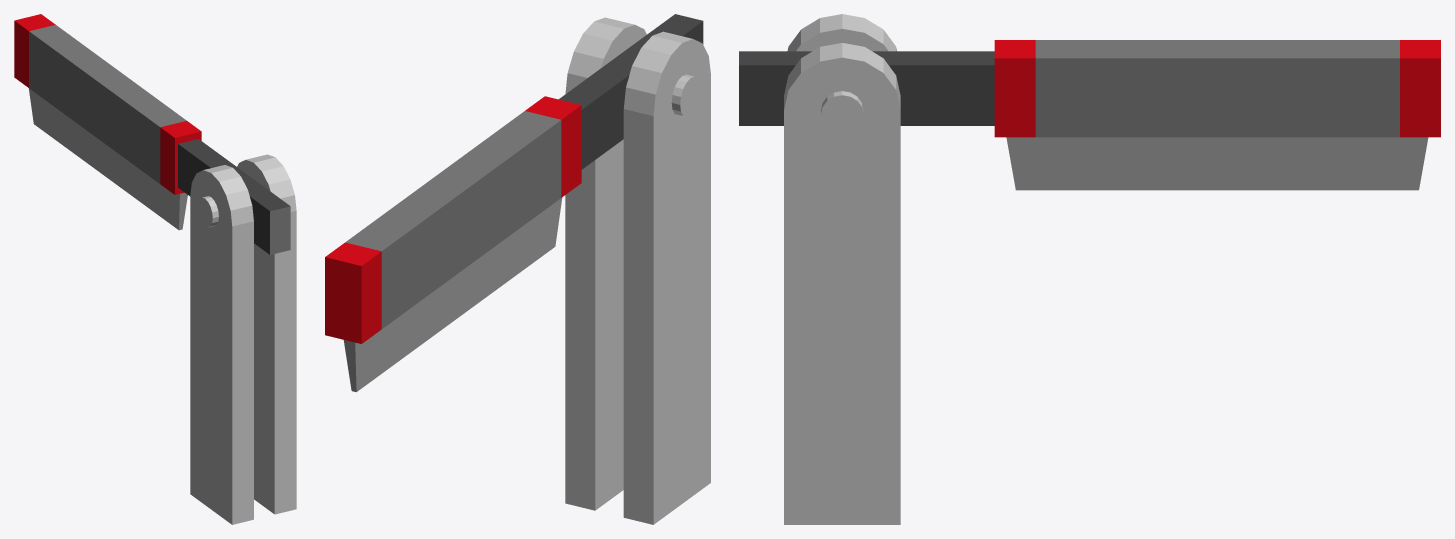
Rendered from KnifeModel.fbx.
3 renders of one model, left to right at view 1: azimuth 30°, elevation 25°; view 2: azimuth 150°, elevation 25°; view 3: azimuth 270°, elevation 25°, orthographic. The views are drawn at different scales.
Visible parts, largest first — view 1: Holderfront, Handle, Razer; view 2: Holderfront, Handle, Razer; view 3: Holderfront, Handle, Razer.
Boxes of the visible parts, x1,y1,x2,y2 form: Holderfront: (190, 154, 296, 524); Handle: (14, 14, 290, 254); Razer: (28, 88, 187, 230); Holderfront: (565, 17, 710, 524); Handle: (325, 14, 703, 343); Razer: (343, 197, 562, 392); Holderfront: (784, 14, 900, 524); Handle: (739, 40, 1440, 137); Razer: (1006, 137, 1428, 190).
Size of the model in its own units: 211 by 885 by 1204.
